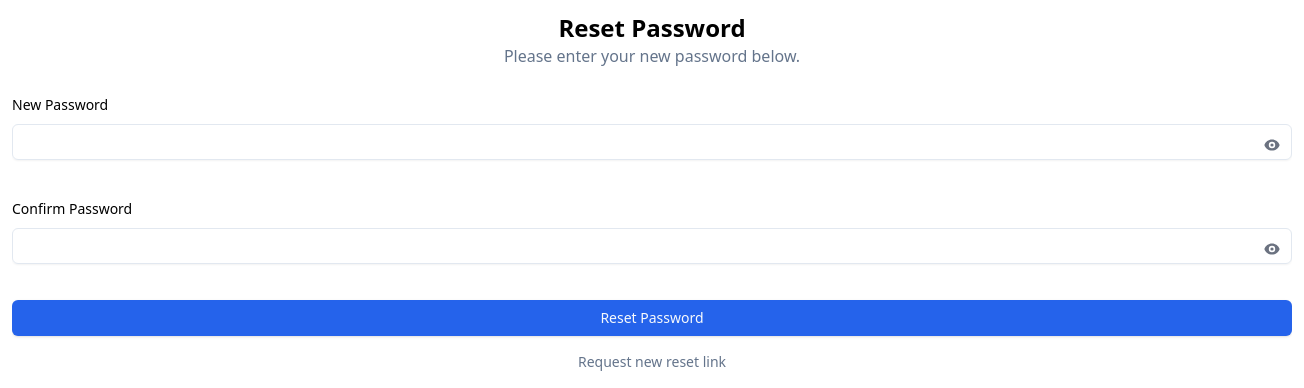
Test: Presentation > Features > Auth > ResetPasswordForm › should handle successful password reset
Type "Password123!" into the password field with test id "password-input" at (652, 142), box [12, 124, 1292, 160]
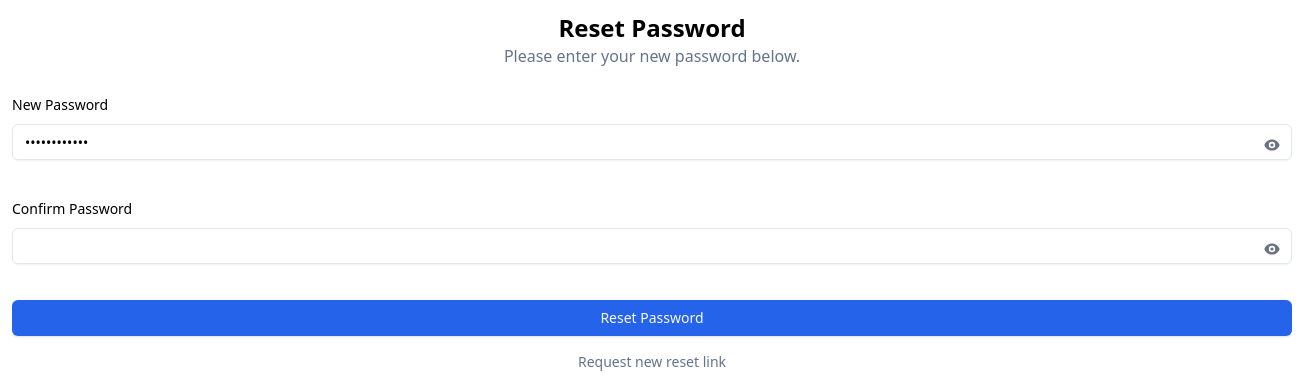
Type "Password123!" into the password field with test id "confirm-password-input" at (652, 246), box [12, 228, 1292, 264]
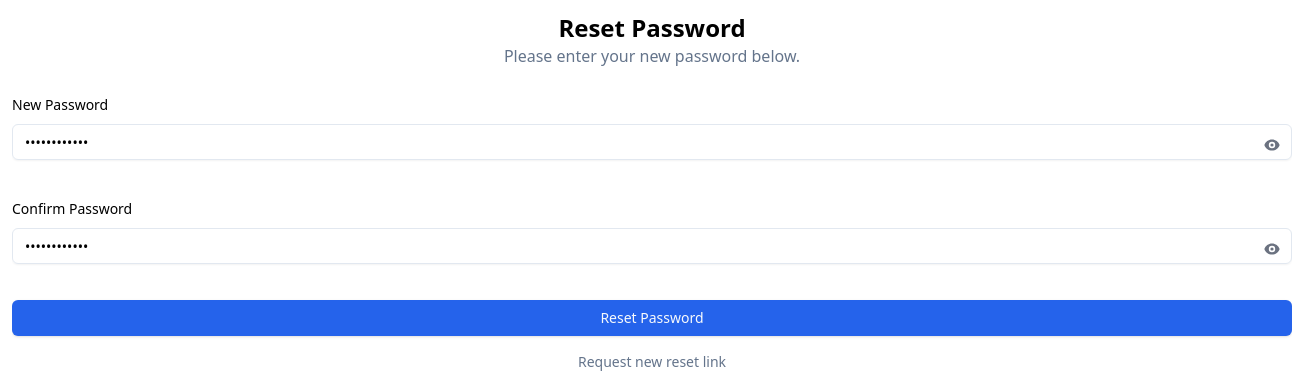
Click the button "Reset Password" at (652, 318), box [12, 300, 1292, 336]
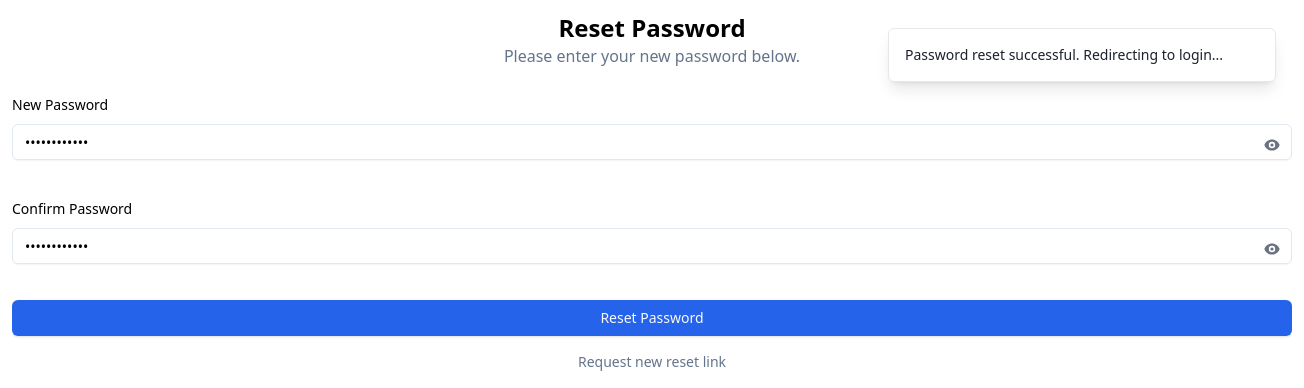
Result: the text "Password reset successful. Redirecting to login..." is shown at [905, 45, 1223, 65]
